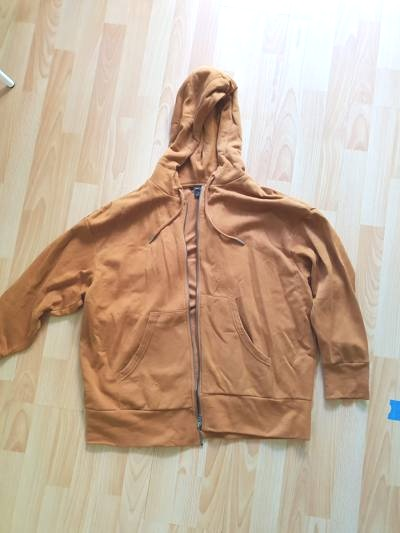Hoodie: (21, 71, 375, 457)
